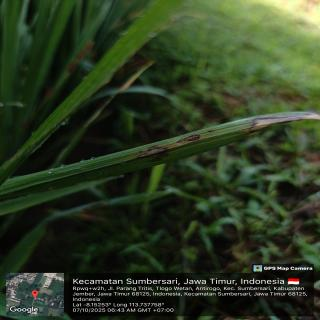Blast: (238, 113, 309, 136), (130, 143, 188, 166), (172, 131, 211, 147)
